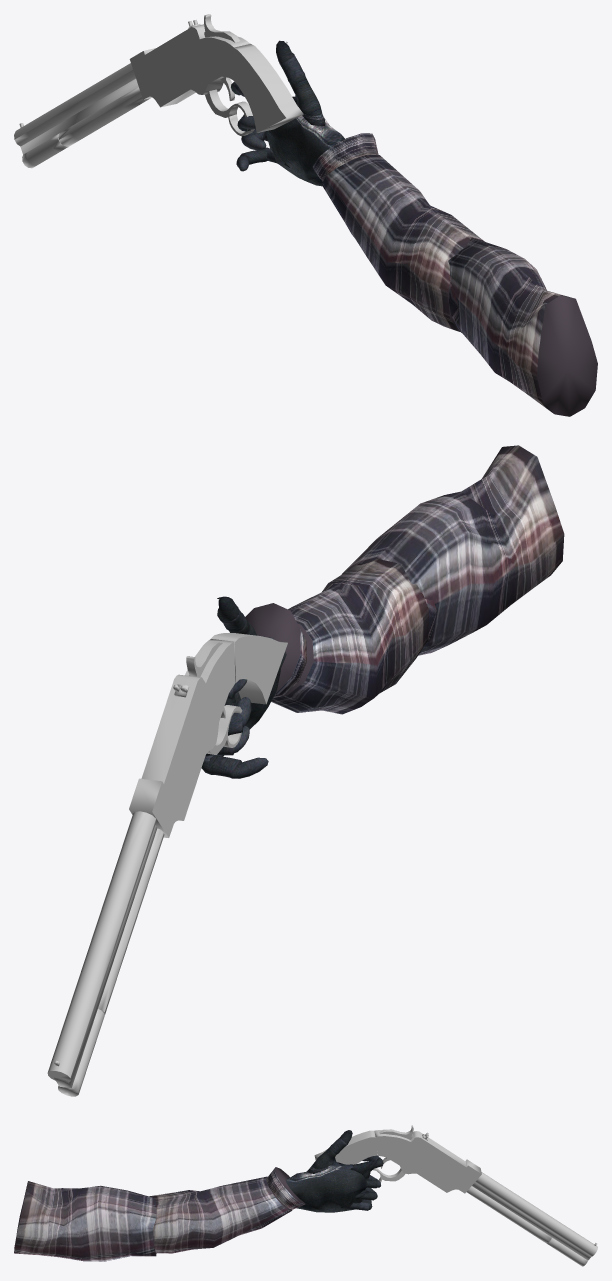
File: volcanic_f1.fbx
The picture shows the model from 3 angles, top to bottom: view 1: azimuth 30°, elevation 25°; view 2: azimuth 150°, elevation 25°; view 3: azimuth 270°, elevation 25°; orthographic projection. The views are drawn at different scales.
Parts seen in each view (by area): view 1: rupperarm, rforearm, volcanic_body, volcanic_barrel, volcanic_grip, rhand, rthumbback, volcanic_lever, volcanic_magazinecap; view 2: rupperarm, rforearm, volcanic_barrel, volcanic_body, volcanic_grip, volcanic_magazinecap; view 3: rupperarm, rforearm, volcanic_body, volcanic_barrel, rhand, volcanic_grip, rthumbback, volcanic_magazinecap, rpfingerback, volcanic_lever, volcanic_hammer.
Part boxes in pixels (x1=…): rupperarm: x1=448, y1=238, x2=597, y2=416; rforearm: x1=312, y1=133, x2=484, y2=331; volcanic_body: x1=129, y1=24, x2=250, y2=107; volcanic_barrel: x1=14, y1=63, x2=150, y2=154; volcanic_grip: x1=229, y1=44, x2=303, y2=132; rhand: x1=265, y1=115, x2=344, y2=186; rthumbback: x1=289, y1=76, x2=325, y2=126; volcanic_lever: x1=205, y1=89, x2=254, y2=136; volcanic_magazinecap: x1=22, y1=133, x2=68, y2=168; rupperarm: x1=341, y1=445, x2=564, y2=655; rforearm: x1=245, y1=559, x2=428, y2=714; volcanic_barrel: x1=47, y1=811, x2=164, y2=1087; volcanic_body: x1=129, y1=639, x2=235, y2=837; volcanic_grip: x1=210, y1=633, x2=287, y2=704; volcanic_magazinecap: x1=58, y1=1009, x2=104, y2=1096; rupperarm: x1=14, y1=1181, x2=156, y2=1261; rforearm: x1=149, y1=1167, x2=305, y2=1253; volcanic_body: x1=374, y1=1129, x2=481, y2=1193; volcanic_barrel: x1=466, y1=1172, x2=597, y2=1260; rhand: x1=286, y1=1165, x2=367, y2=1212; volcanic_grip: x1=314, y1=1130, x2=377, y2=1164; rthumbback: x1=306, y1=1147, x2=353, y2=1173; volcanic_magazinecap: x1=547, y1=1237, x2=587, y2=1266; rpfingerback: x1=350, y1=1157, x2=382, y2=1180; volcanic_lever: x1=373, y1=1168, x2=405, y2=1182; volcanic_hammer: x1=379, y1=1125, x2=413, y2=1139.
Bounding box in the file's own units: 6.64 × 11.57 × 39.51.
